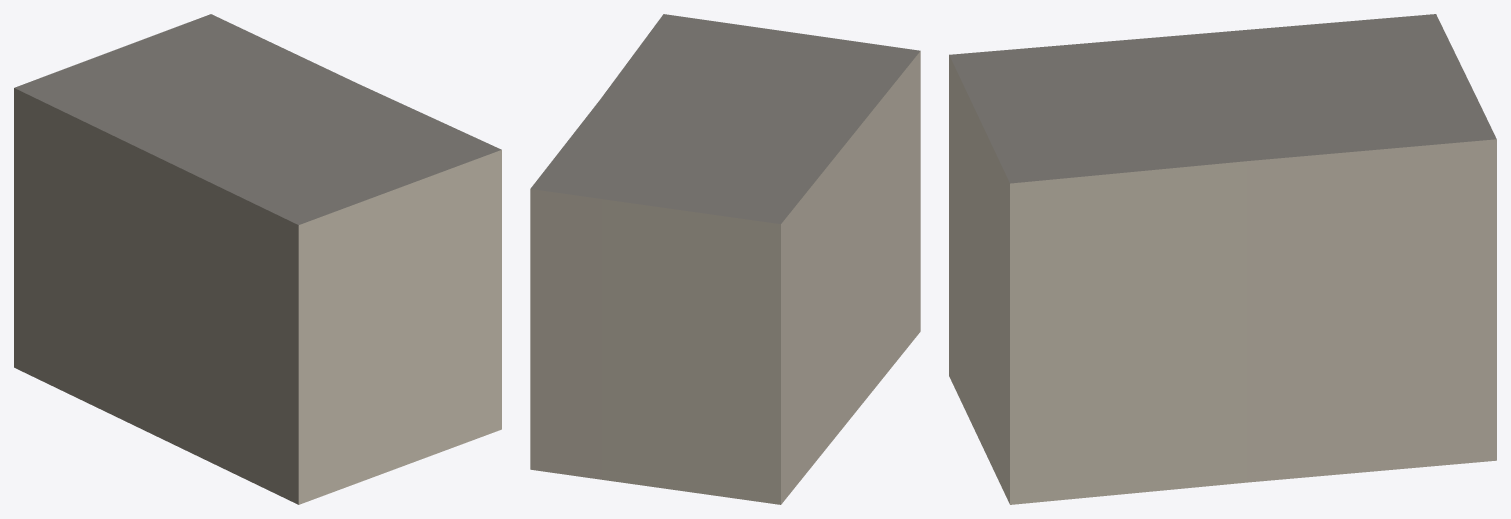
3 renders of one model, left to right at view 1: azimuth 30°, elevation 25°; view 2: azimuth 150°, elevation 25°; view 3: azimuth 270°, elevation 25°, orthographic. The views are drawn at different scales.
Parts seen in each view (by area): view 1: HP-w1197612259; view 2: HP-w1197612259; view 3: HP-w1197612259.
Boxes of the visible parts, box(x1,y1,x2,y2) form: HP-w1197612259: box(14, 14, 501, 504); HP-w1197612259: box(530, 14, 920, 504); HP-w1197612259: box(949, 14, 1496, 504).
Size of the model in its own units: 20.36 by 18 by 27.8.
